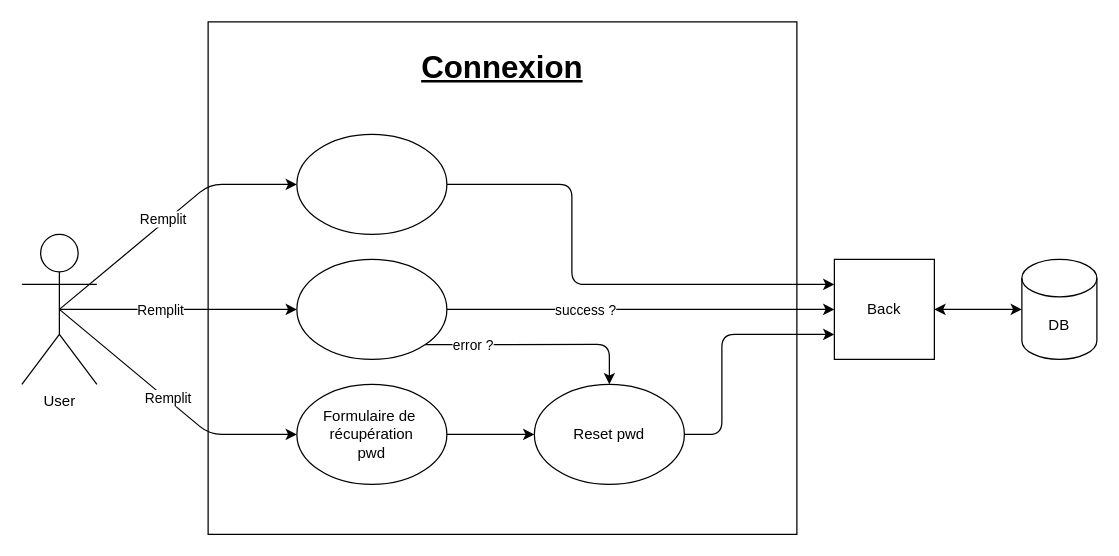
This 1119x556 diagram has some shape labels left out. Here are the shapes that lost their labels. From the top down, the centre of each, then its label:
At pixel 371 183: "Formulaire d'inscription".
At pixel 371 308: "Formulaire de connexion".
